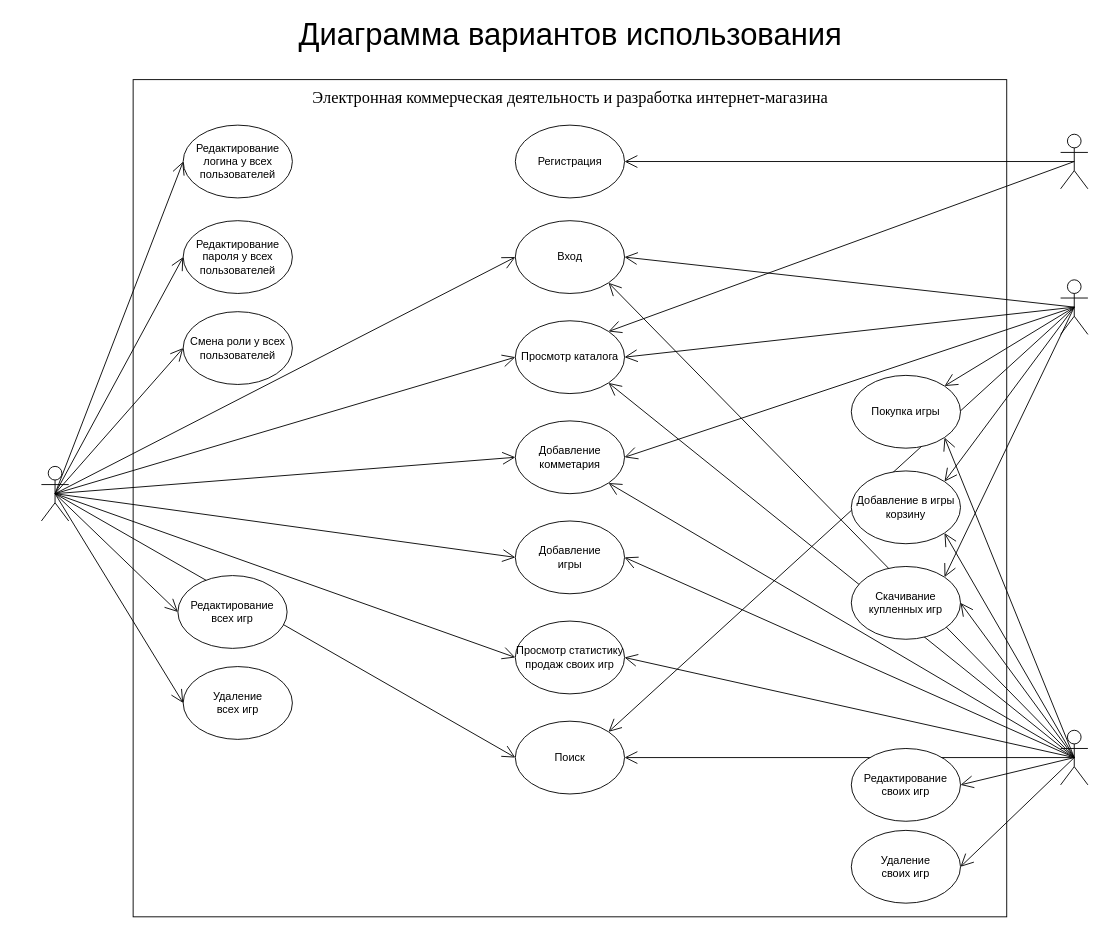
Image size: 1119x933. Some labels were removed from this diagram. The centre of each missing label's shape, as x and y in pixels:
Администратор: (54,493)
Гость: (1074,161)
Покупатель: (1074,306)
Продавец: (1074,757)
